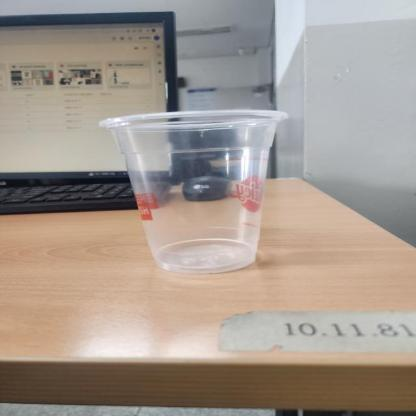Plastic Cup: (97, 108, 293, 274)
